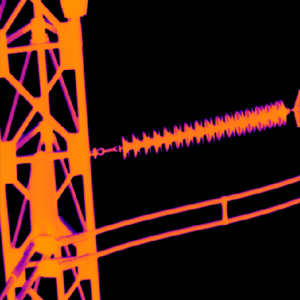insulator: (121, 101, 288, 155)
